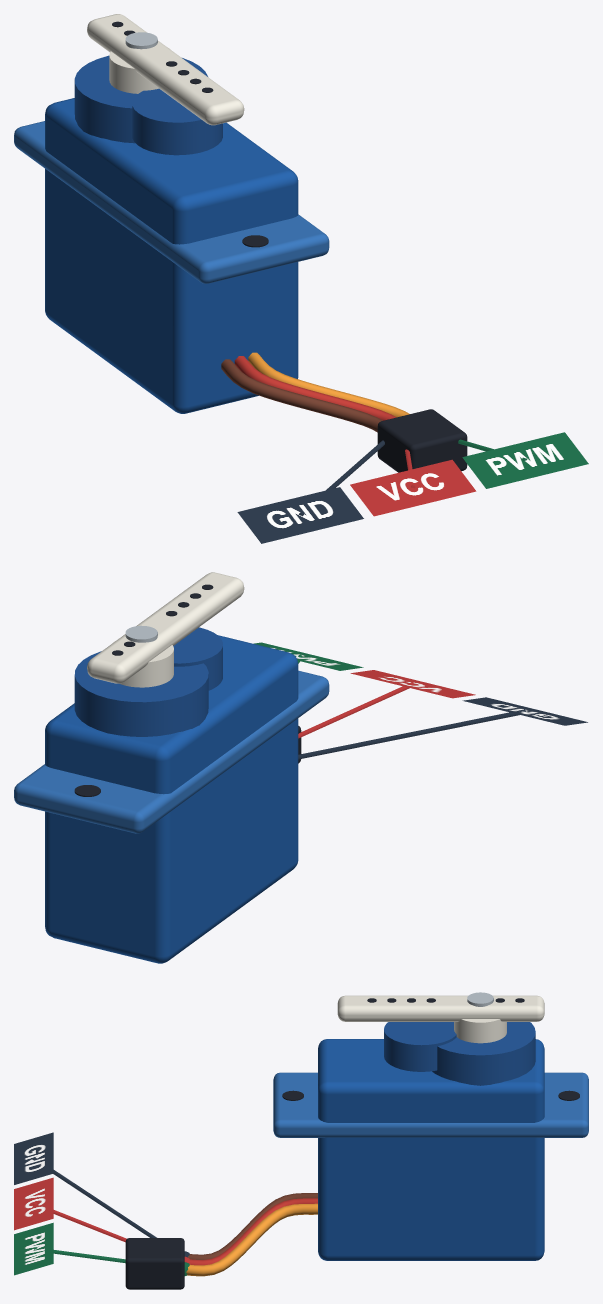
The picture shows the model from 3 angles, top to bottom: view 1: azimuth 30°, elevation 25°; view 2: azimuth 150°, elevation 25°; view 3: azimuth 270°, elevation 25°; orthographic projection. The views are drawn at different scales.
Visible parts, largest first — view 1: sg90, PWM, VCC, GND, Terminal labels; view 2: sg90, Terminal labels, GND, VCC, PWM; view 3: sg90, PWM, VCC, GND, Terminal labels.
Boxes of the visible parts, x1,y1,x2,y2 form: sg90: (14,14,467,472); PWM: (462,432,588,488); VCC: (350,459,476,516); GND: (237,487,363,543); Terminal labels: (299,439,527,516); sg90: (14,572,329,963); Terminal labels: (297,654,525,759); GND: (462,697,587,725); VCC: (350,670,475,698); PWM: (254,642,363,670); sg90: (125,992,588,1289); PWM: (14,1222,53,1275); VCC: (14,1177,53,1230); GND: (14,1132,53,1184); Terminal labels: (32,1157,189,1275).
Bounding box in the file's own units: 0.0316 × 0.0278 × 0.0583.
15 materials, 3 textured.
